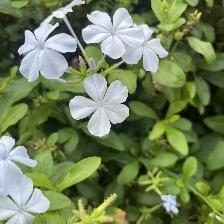chitrak: (71, 73, 133, 135), (17, 24, 78, 81), (85, 10, 141, 60), (1, 177, 55, 224), (122, 25, 169, 73), (1, 132, 34, 192), (36, 1, 87, 25)
